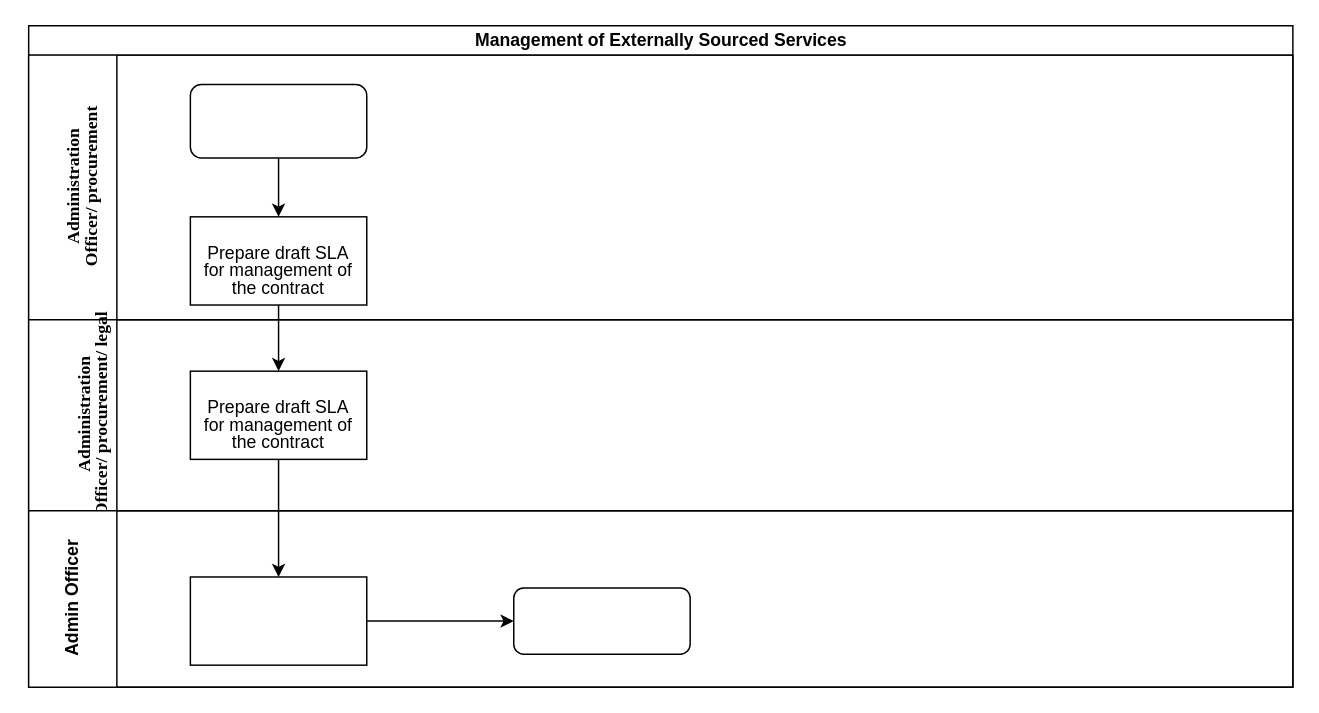
The diagram is 1319 pixels wide and 713 high, and some of its shapes have lost their labels. Here are the shapes that lost their labels. From the top down, the centre of each, then its label:
At point (278, 120): "Start".
At point (278, 620): "Monitor service delivery as per SLA".
At point (601, 620): "End".
